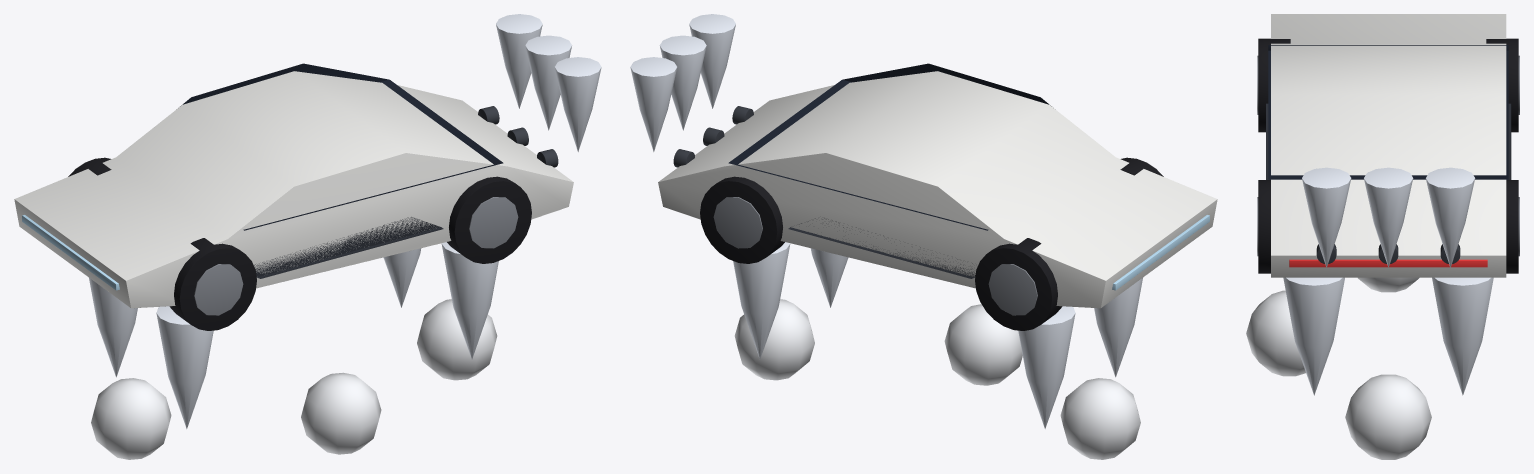
Rendered from roadster26_air.glb.
3 views of the same model, side by side, from view 1: azimuth 30°, elevation 25°; view 2: azimuth 150°, elevation 25°; view 3: azimuth 270°, elevation 25° (orthographic). The views are drawn at different scales.
Parts seen in each view (by area): view 1: roadster26_air; view 2: roadster26_air; view 3: roadster26_air.
Part boxes in pixels (x1=…): roadster26_air: x1=14, y1=14, x2=601, y2=459; roadster26_air: x1=630, y1=14, x2=1217, y2=459; roadster26_air: x1=1246, y1=14, x2=1519, y2=459.
Size of the model in its own units: 4.91 by 2.9 by 2.21.
